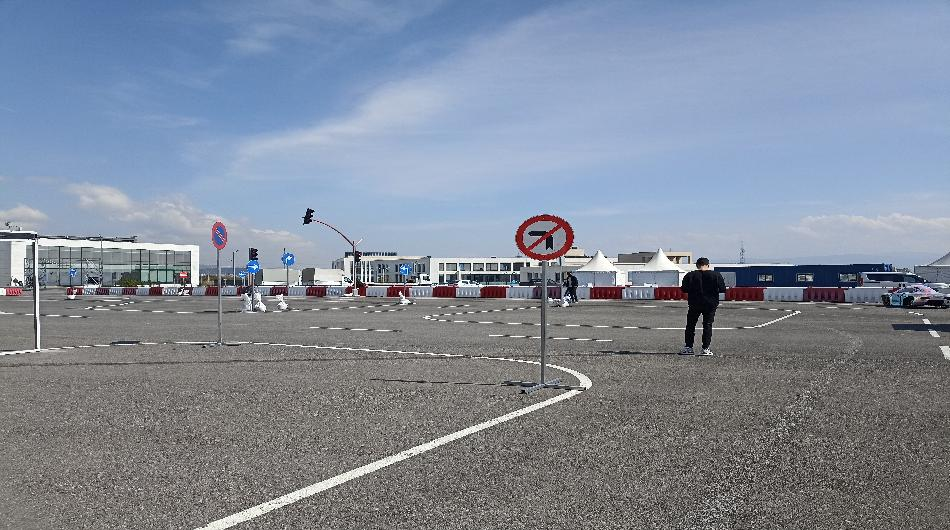park_yapilmaz_1: (210, 221, 230, 250)
sola_donulmez: (510, 213, 575, 260)
